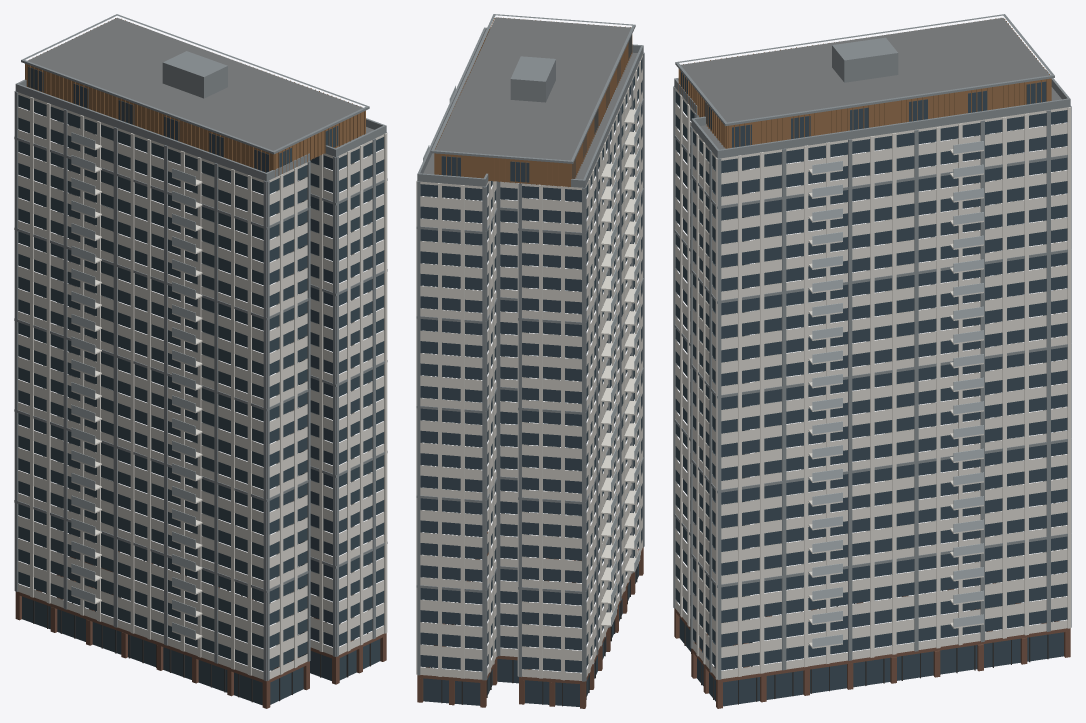
Rendered from poynter_house.glb.
3 views of the same model, side by side, from view 1: azimuth 30°, elevation 25°; view 2: azimuth 150°, elevation 25°; view 3: azimuth 270°, elevation 25° (orthographic). The views are drawn at different scales.
Size of the model in its own units: 30.23 by 69.63 by 41.96.
